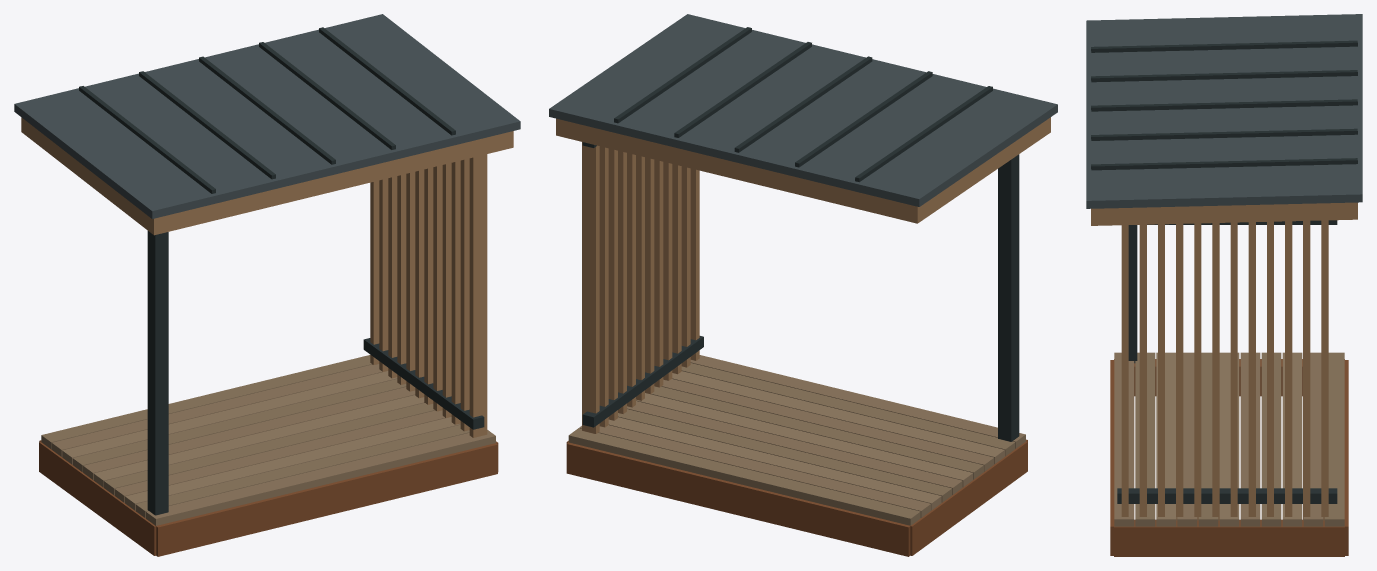
The model's file is screened_entry.glb.
3 renders of one model, left to right at view 1: azimuth 30°, elevation 25°; view 2: azimuth 150°, elevation 25°; view 3: azimuth 270°, elevation 25°, orthographic.
Parts seen in each view (by area): view 1: KitScreenedEntryDetails, KitScreenedEntryRoofFinish; view 2: KitScreenedEntryDetails, KitScreenedEntryRoofFinish; view 3: KitScreenedEntryDetails, KitScreenedEntryRoofFinish.
Part boxes in pixels (<box>): KitScreenedEntryDetails: <box>21,27,513,556</box>; KitScreenedEntryRoofFinish: <box>14,14,520,218</box>; KitScreenedEntryDetails: <box>556,27,1050,556</box>; KitScreenedEntryRoofFinish: <box>549,14,1057,206</box>; KitScreenedEntryDetails: <box>1091,40,1357,556</box>; KitScreenedEntryRoofFinish: <box>1086,14,1362,208</box>.
Bounding box in the file's own units: 3.01 × 2.88 × 1.95.
